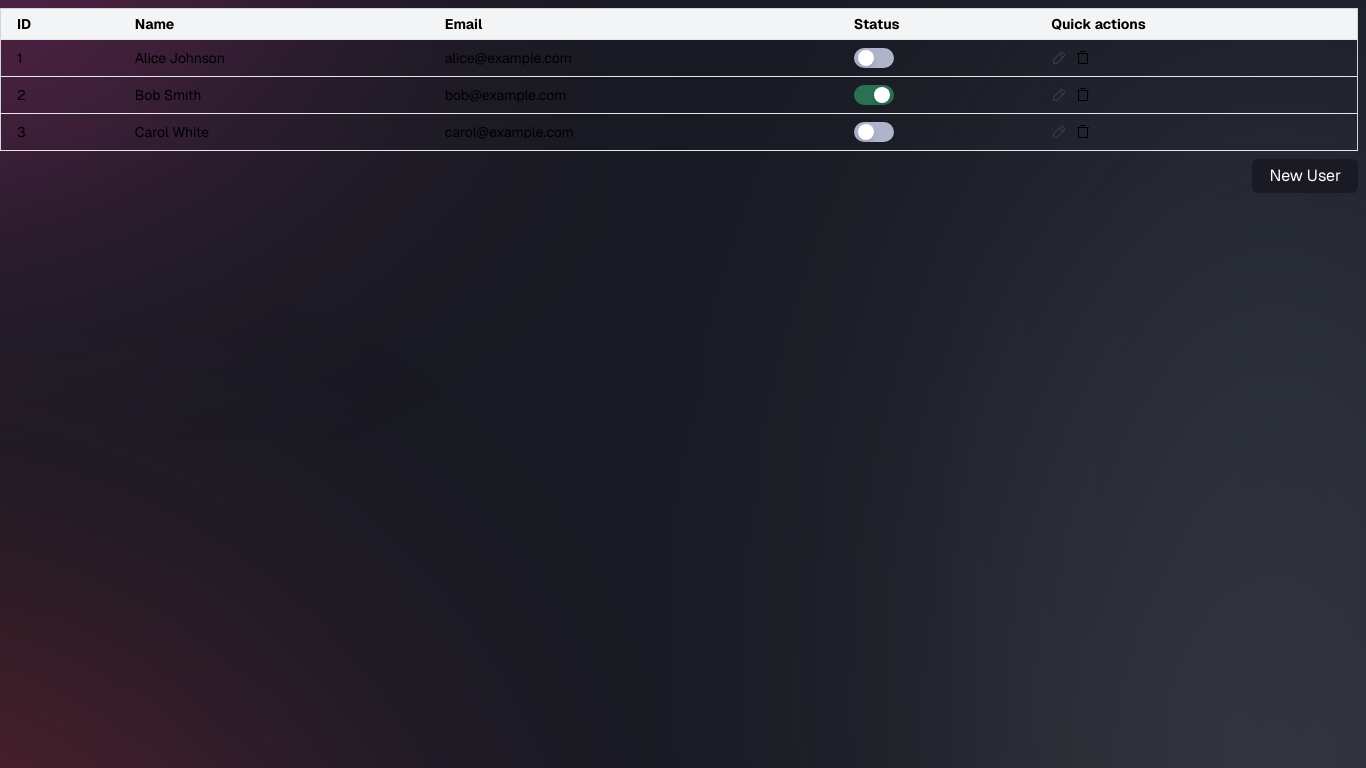
User integration flow › deletes a user and removes from UI
This screenshot has width=1366, height=768.
expect the text "Carol White" is shown: met, box [119,114,429,150]
Click the icon with test id "delete-icon-3" at (1083, 132), box [1075,124,1091,140]
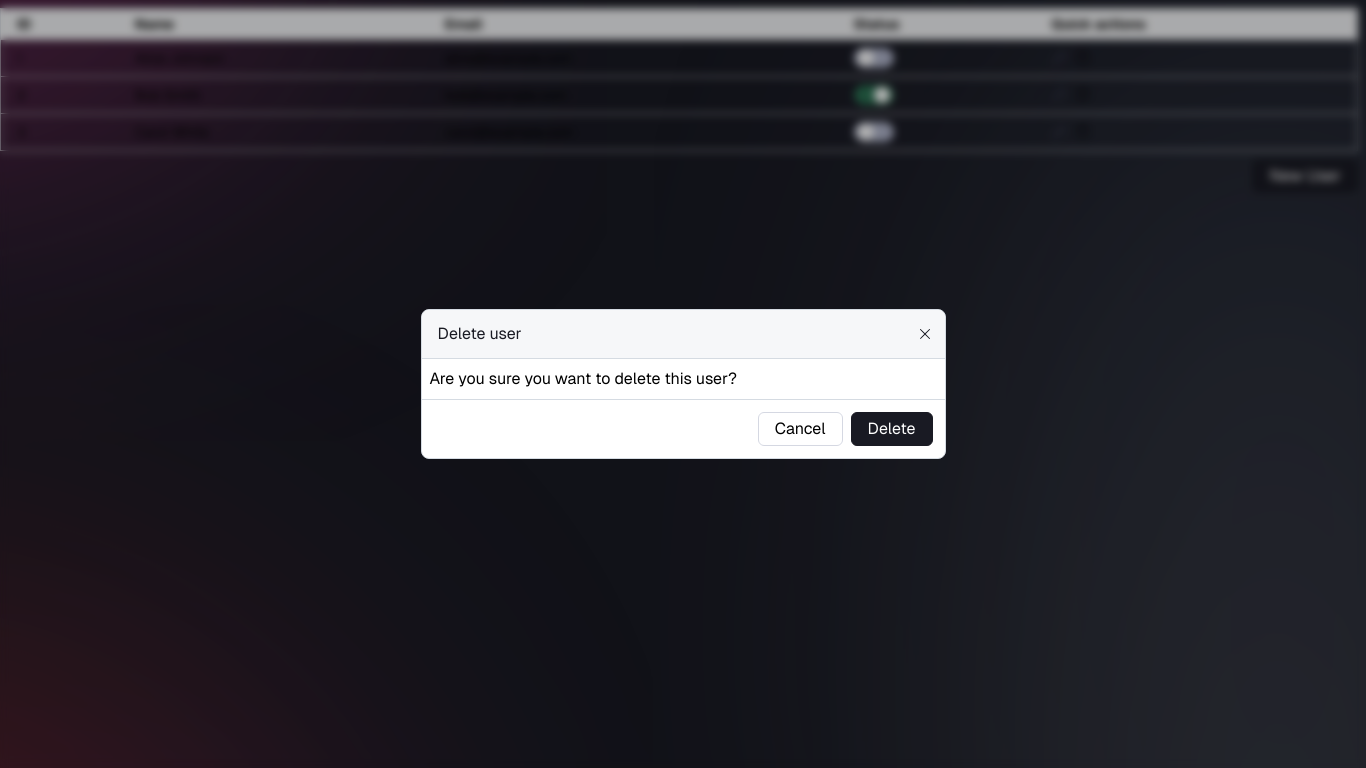
expect the text "Are you sure you want to delete this user?" is shown: met, box [430,368,737,389]
Click the button "Delete" at (892, 429), box [850,412,932,446]
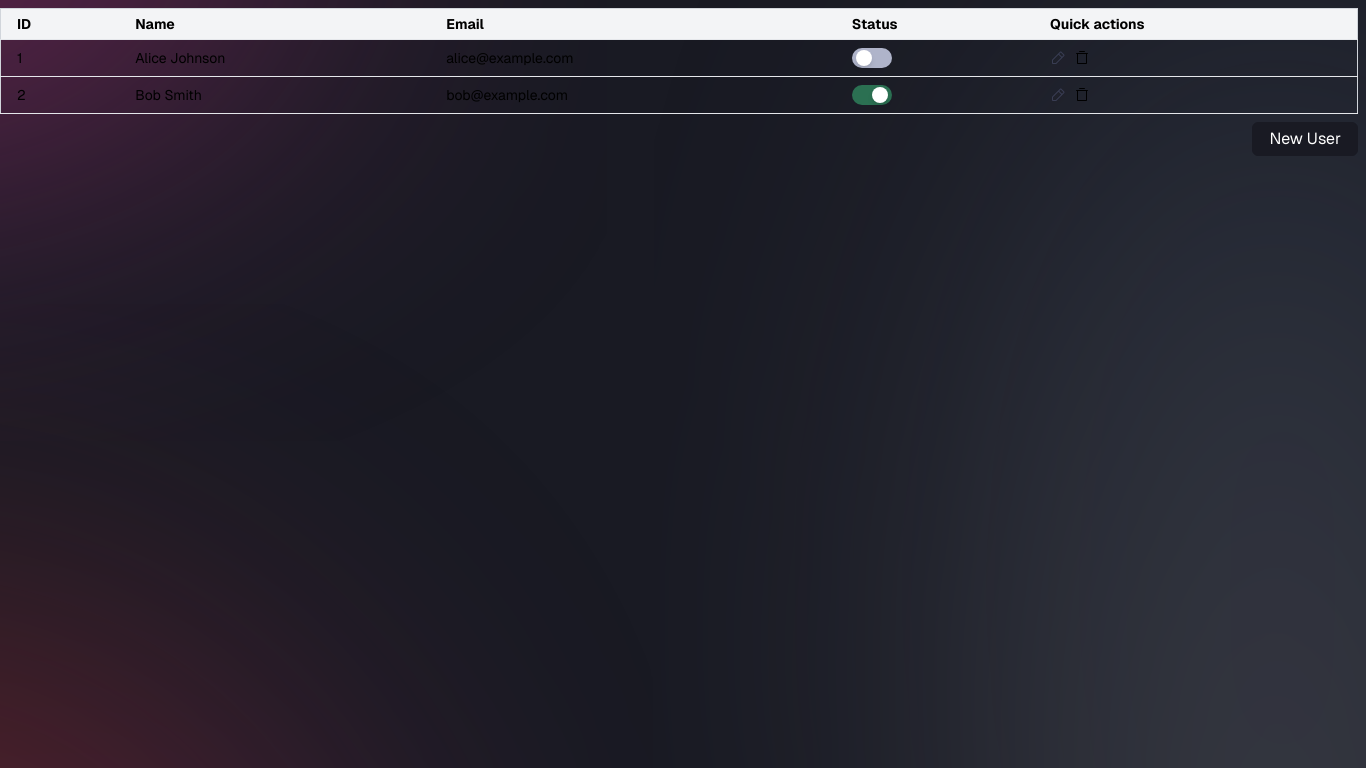
expect the text "Carol White" is gone: met
